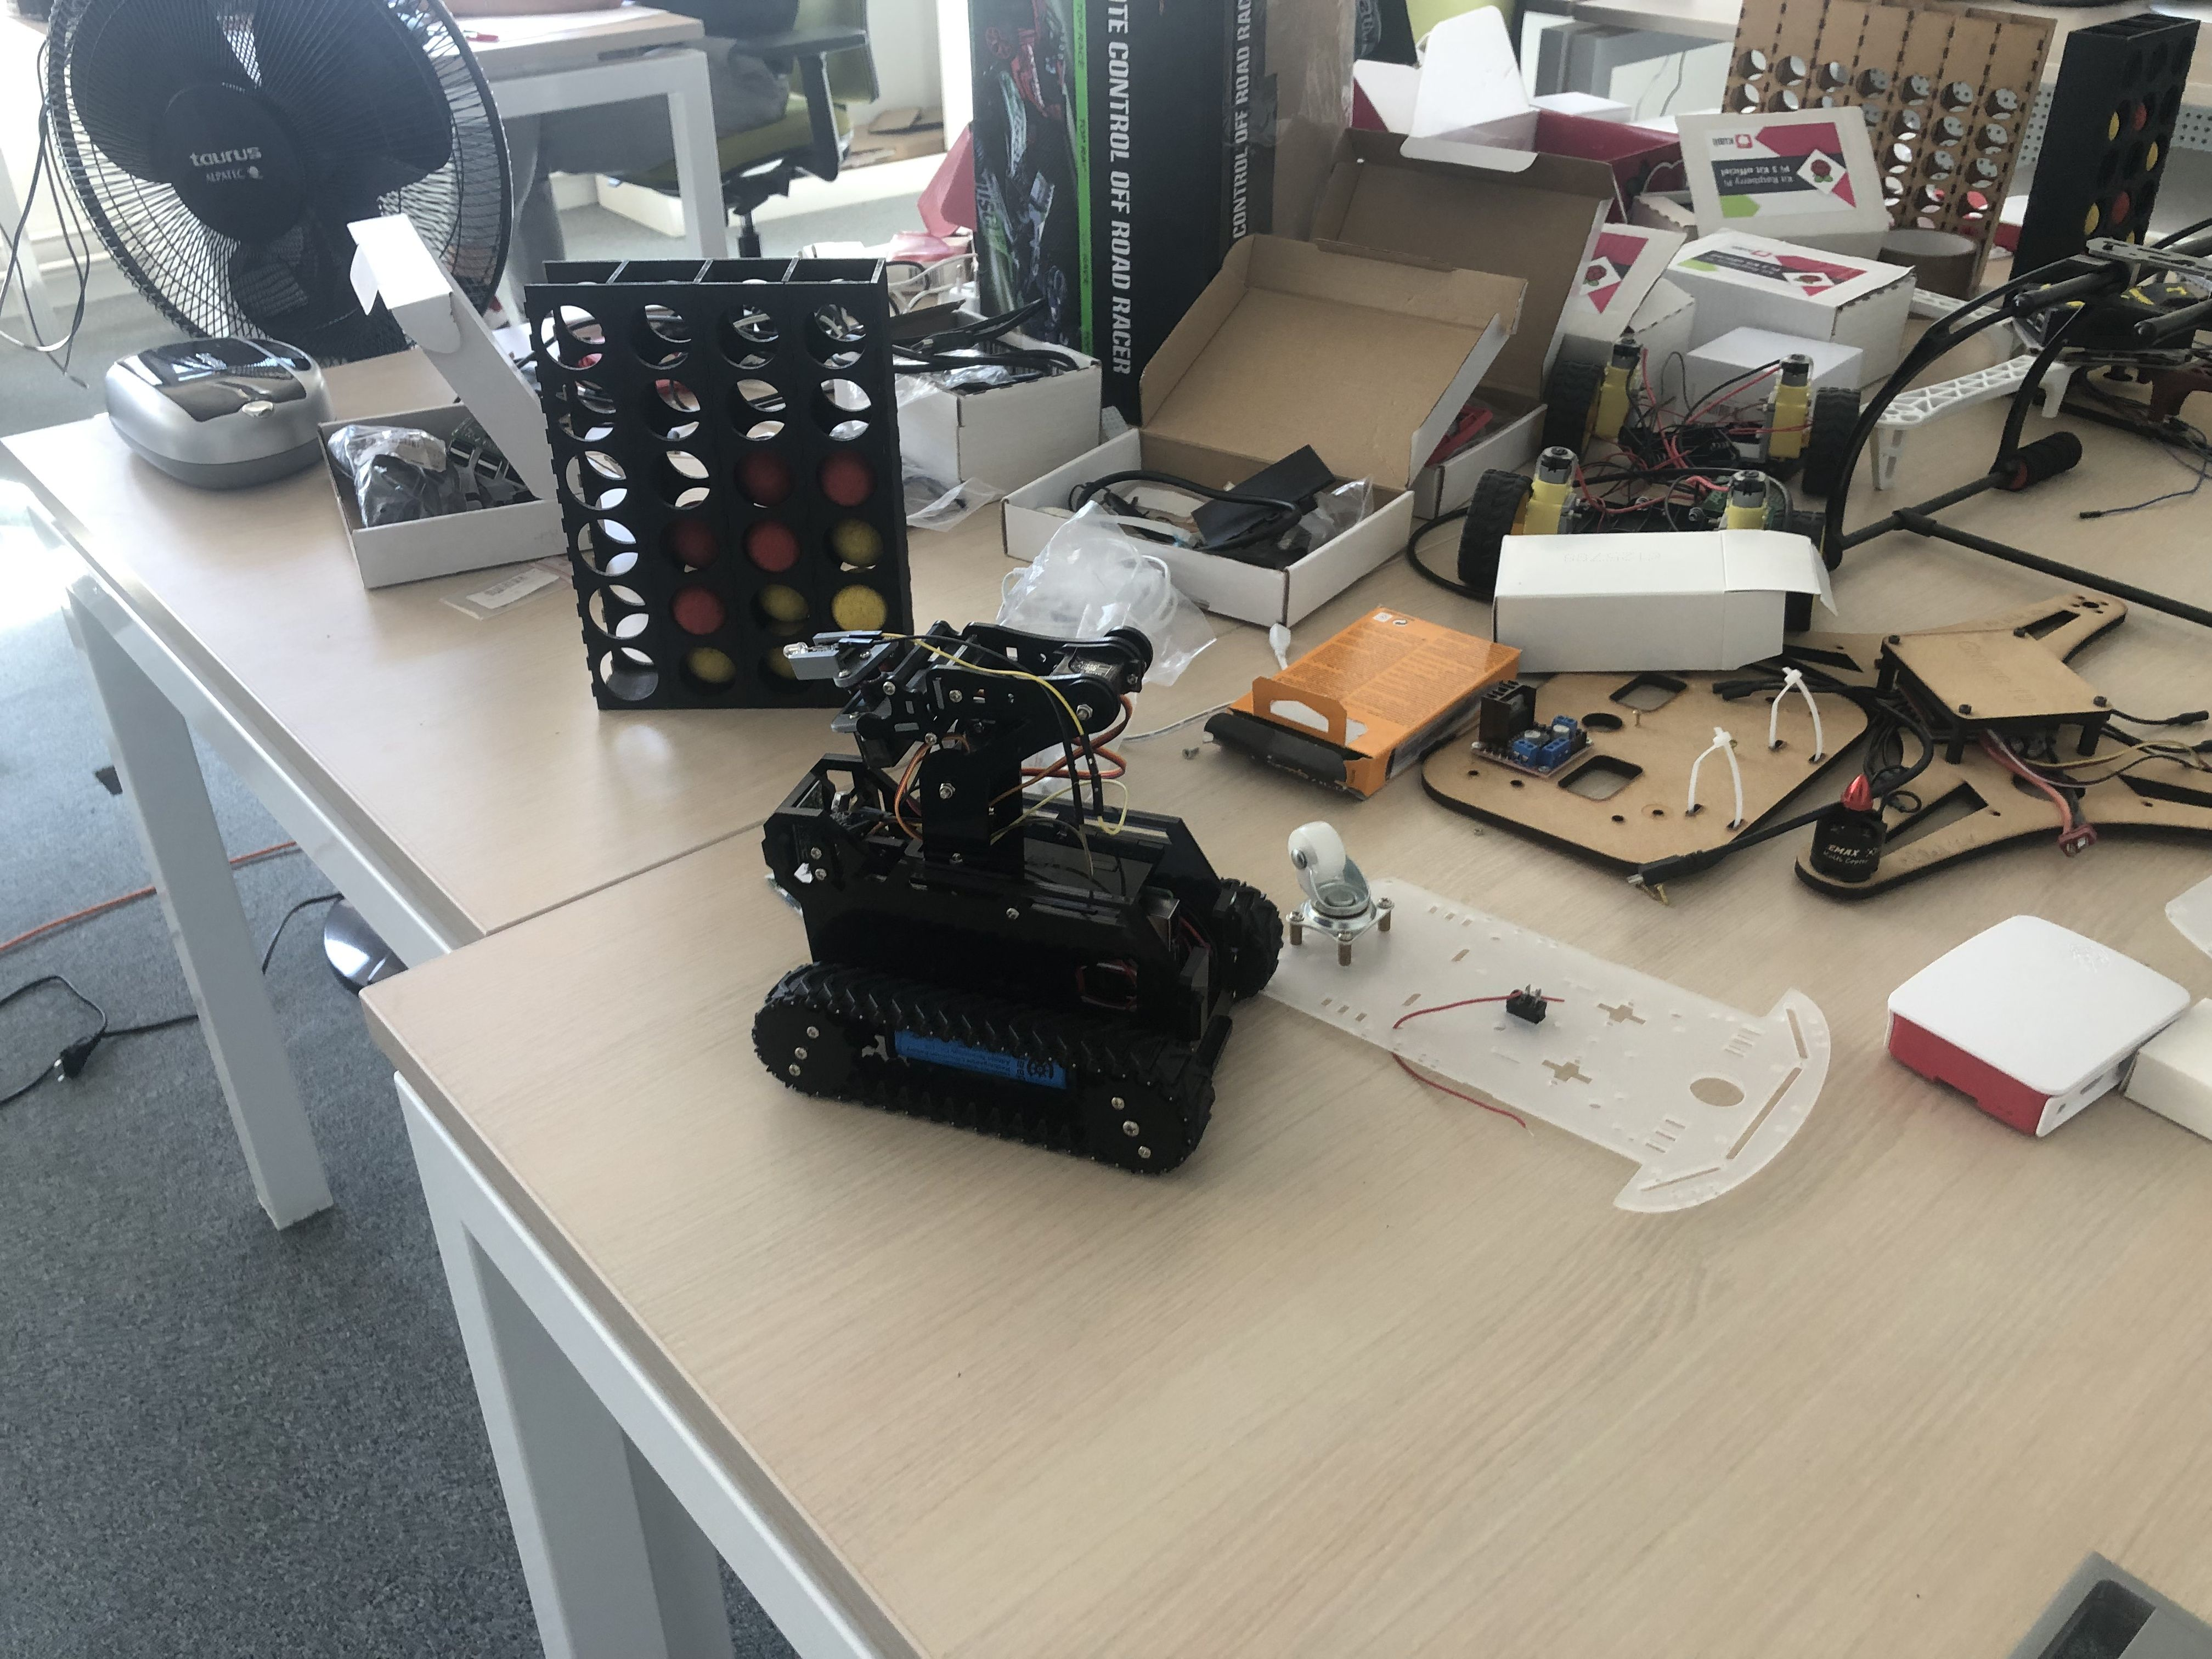rasptank: (747, 624, 1294, 1183)
